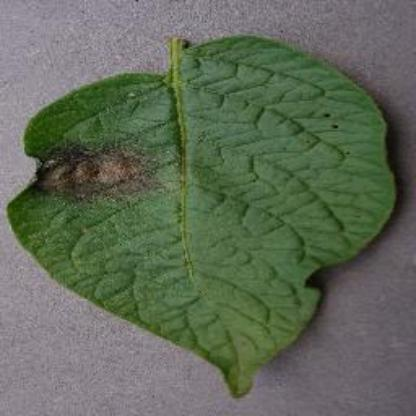Late-Blight: (5, 32, 405, 398)
